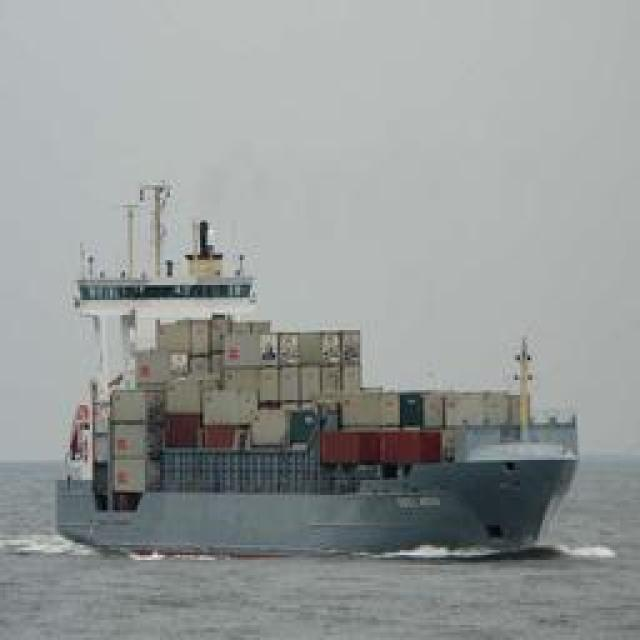Ship: (56, 326, 589, 554)
